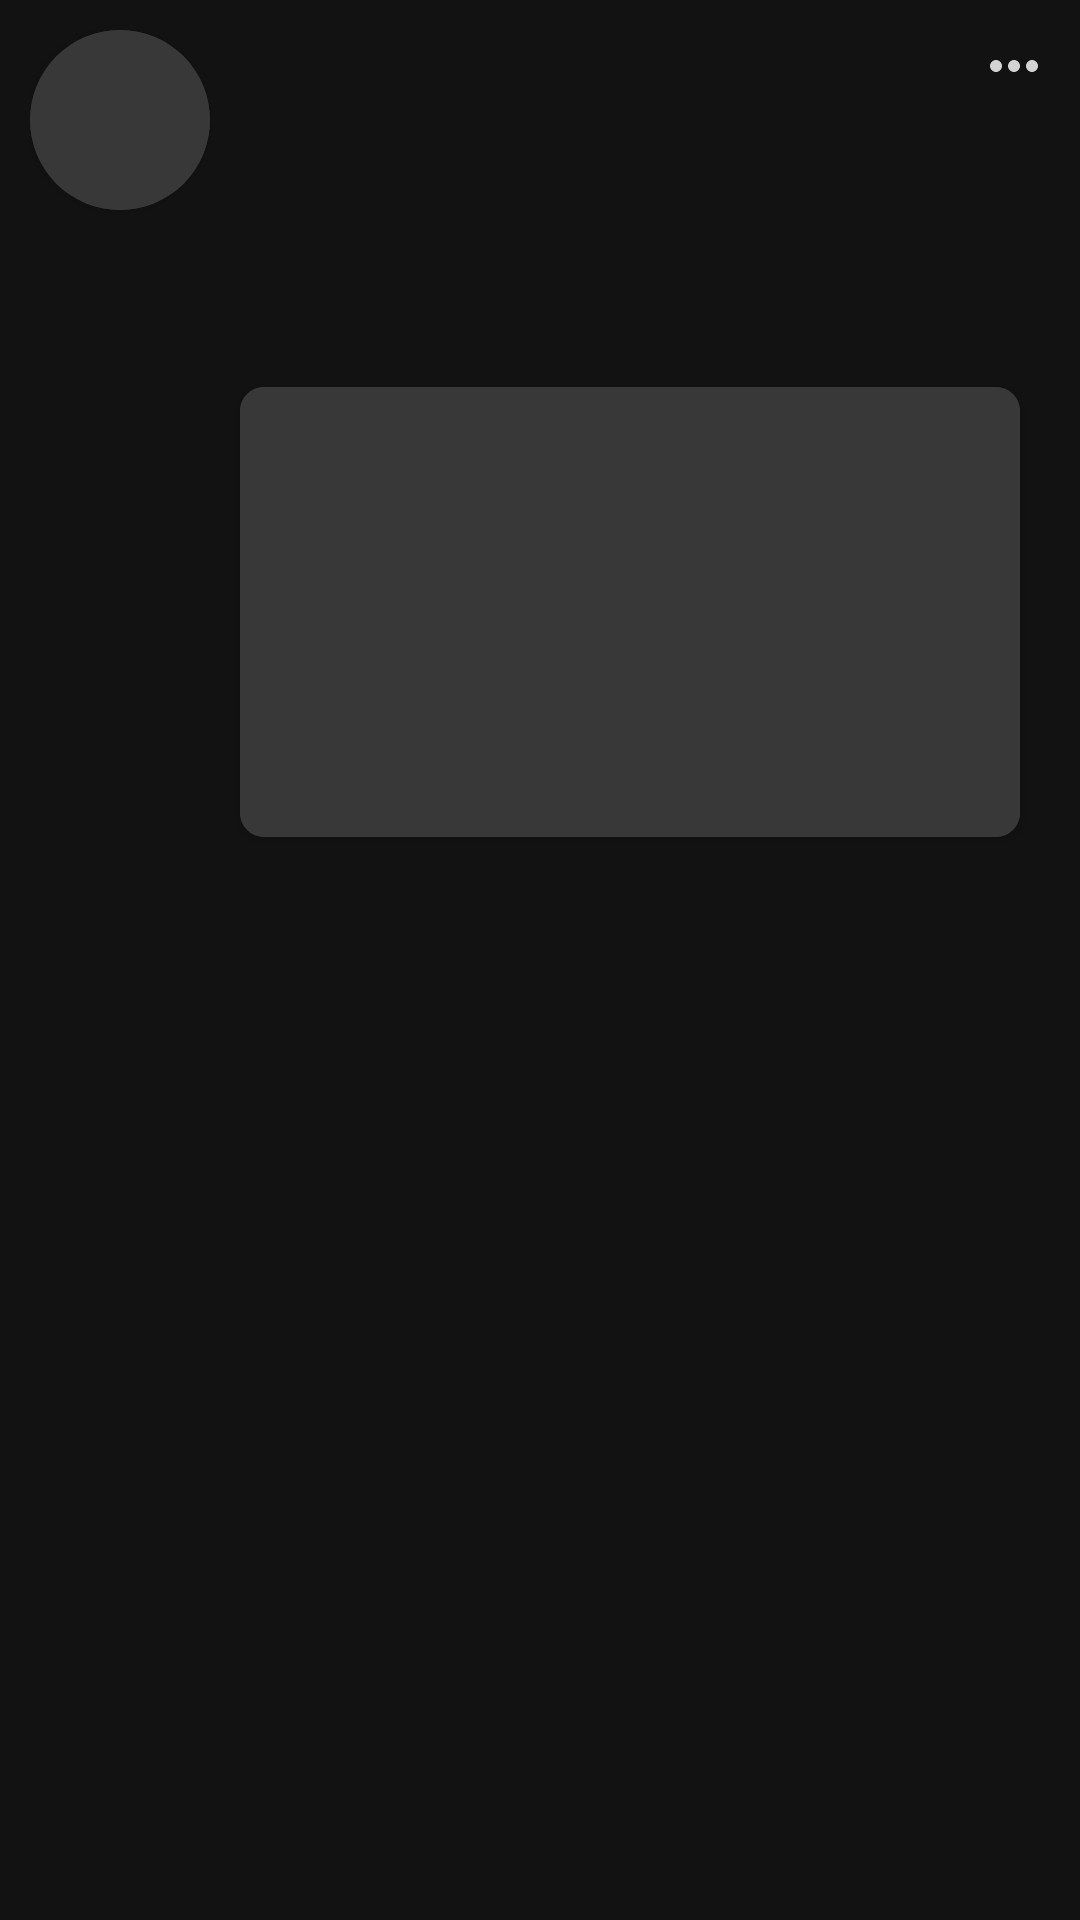

Where to tap for icons on this 1080 x 1920 app screen, as point (x, y):
more horiz: point (1014, 66)
